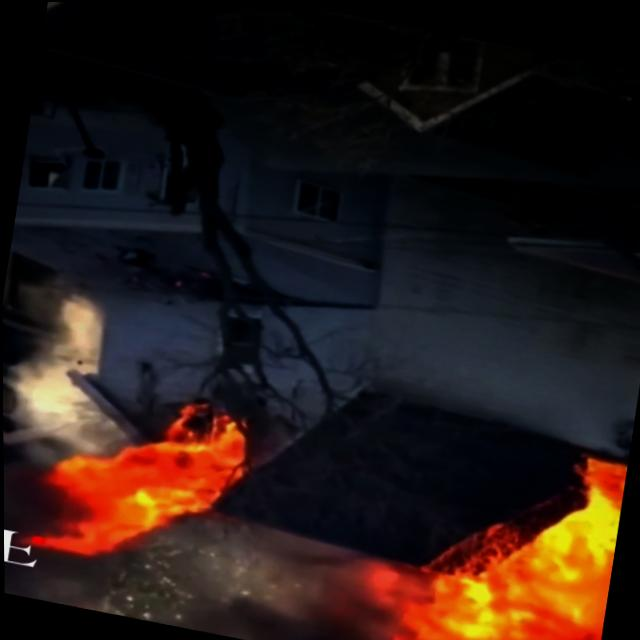helmet: (360, 414, 629, 640), (37, 375, 262, 582)
